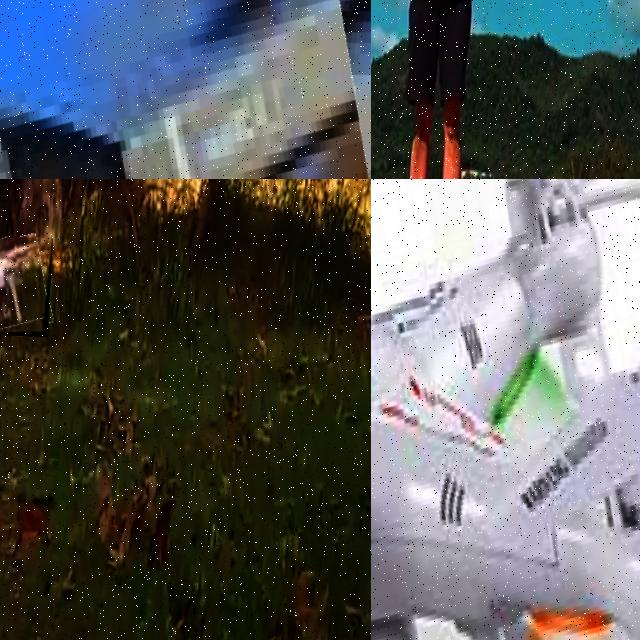0: (0, 234, 53, 337)
drone: (371, 179, 640, 640), (0, 0, 371, 179)
